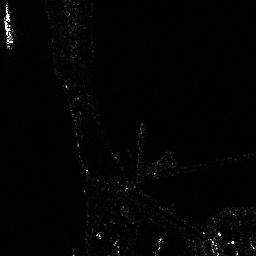ship: (2, 4, 16, 51)
